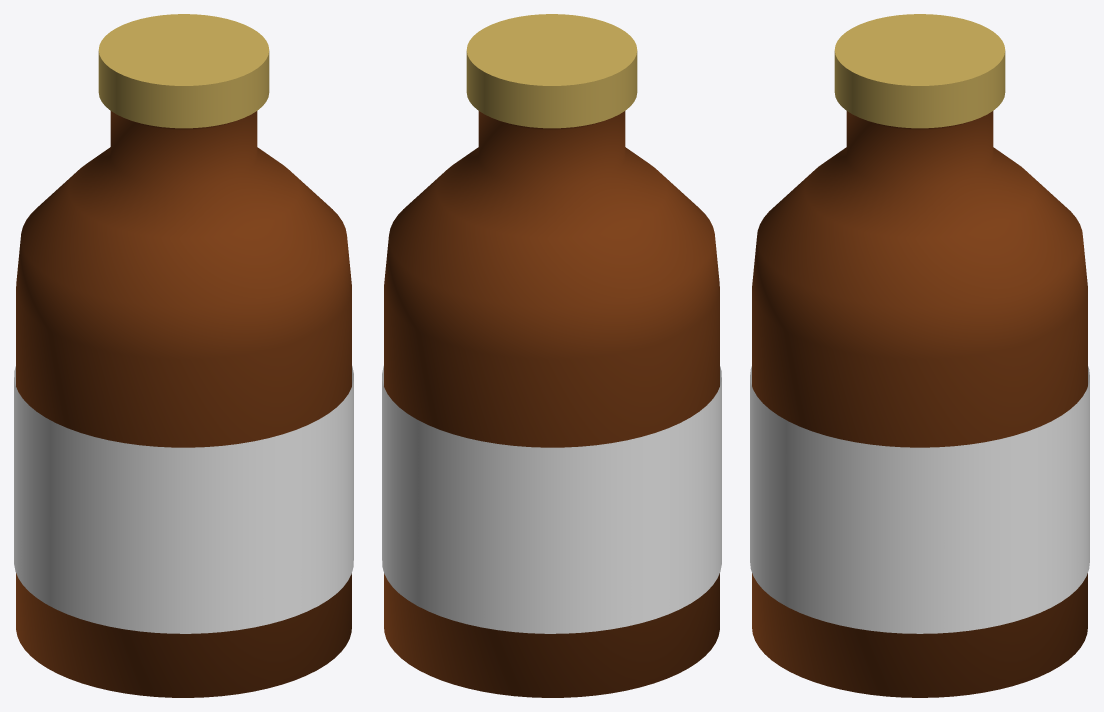
File: sangsom.glb
3 views of the same model, side by side, from view 1: azimuth 30°, elevation 25°; view 2: azimuth 150°, elevation 25°; view 3: azimuth 270°, elevation 25° (orthographic).
Bounding box in the file's own units: 0.546 × 1.02 × 0.546.
